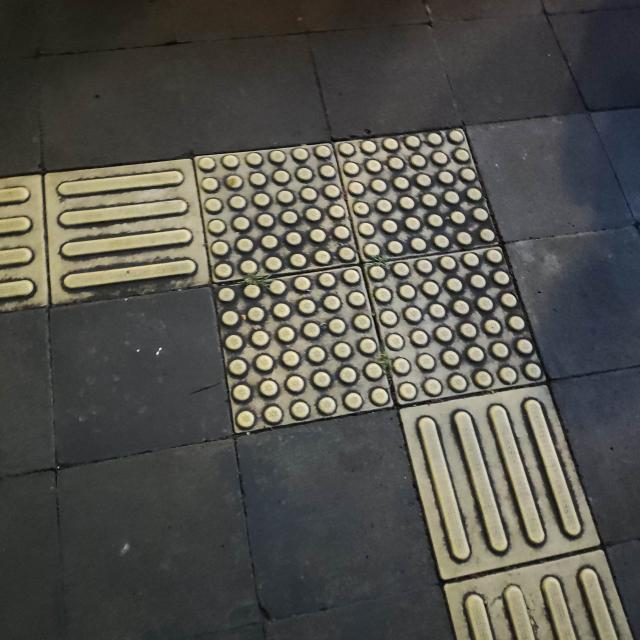kiri: (5, 115, 640, 508)
